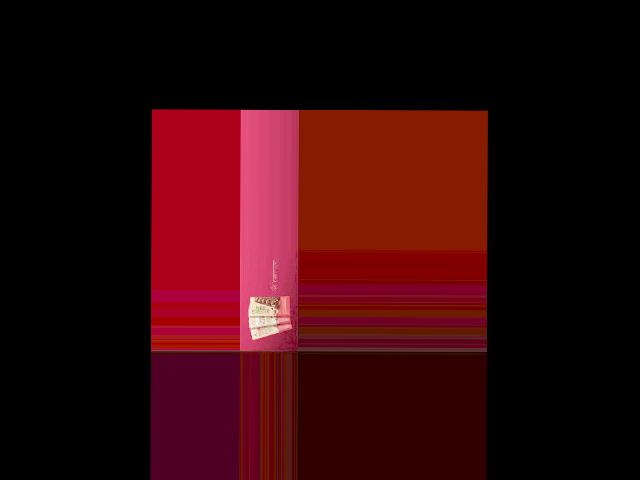chocolate: (247, 318, 294, 340)
